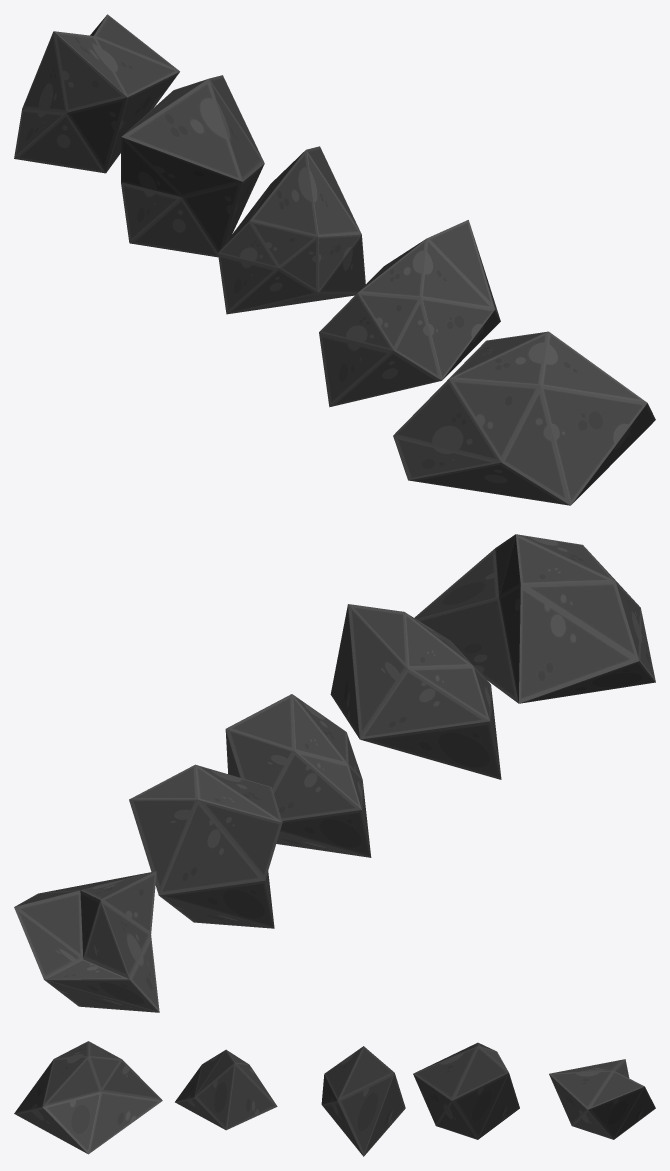
The model's file is ROCA.fbx.
3 views of the same model, one above another, from view 1: azimuth 30°, elevation 25°; view 2: azimuth 150°, elevation 25°; view 3: azimuth 270°, elevation 25° (orthographic). The views are drawn at different scales.
Parts seen in each view (by area): view 1: roca, roca_1, roca_3, roca_2, roca_4; view 2: roca, roca_1, roca_3, roca_2, roca_4; view 3: roca, roca_3, roca_2, roca_4, roca_1.
Part boxes in pixels (x1,y1,x2,y2): roca: (393, 331, 655, 505); roca_1: (319, 220, 500, 407); roca_3: (121, 75, 264, 257); roca_2: (218, 146, 365, 314); roca_4: (14, 14, 179, 173); roca: (414, 534, 655, 703); roca_1: (330, 604, 501, 779); roca_3: (129, 764, 282, 928); roca_2: (225, 694, 371, 857); roca_4: (14, 871, 159, 1012); roca: (14, 1041, 162, 1154); roca_3: (413, 1042, 519, 1139); roca_2: (321, 1046, 405, 1156); roca_4: (549, 1059, 655, 1139); roca_1: (175, 1049, 277, 1130).
Size of the model in its own units: 385 by 236 by 1467.
1 material, 1 textured.
